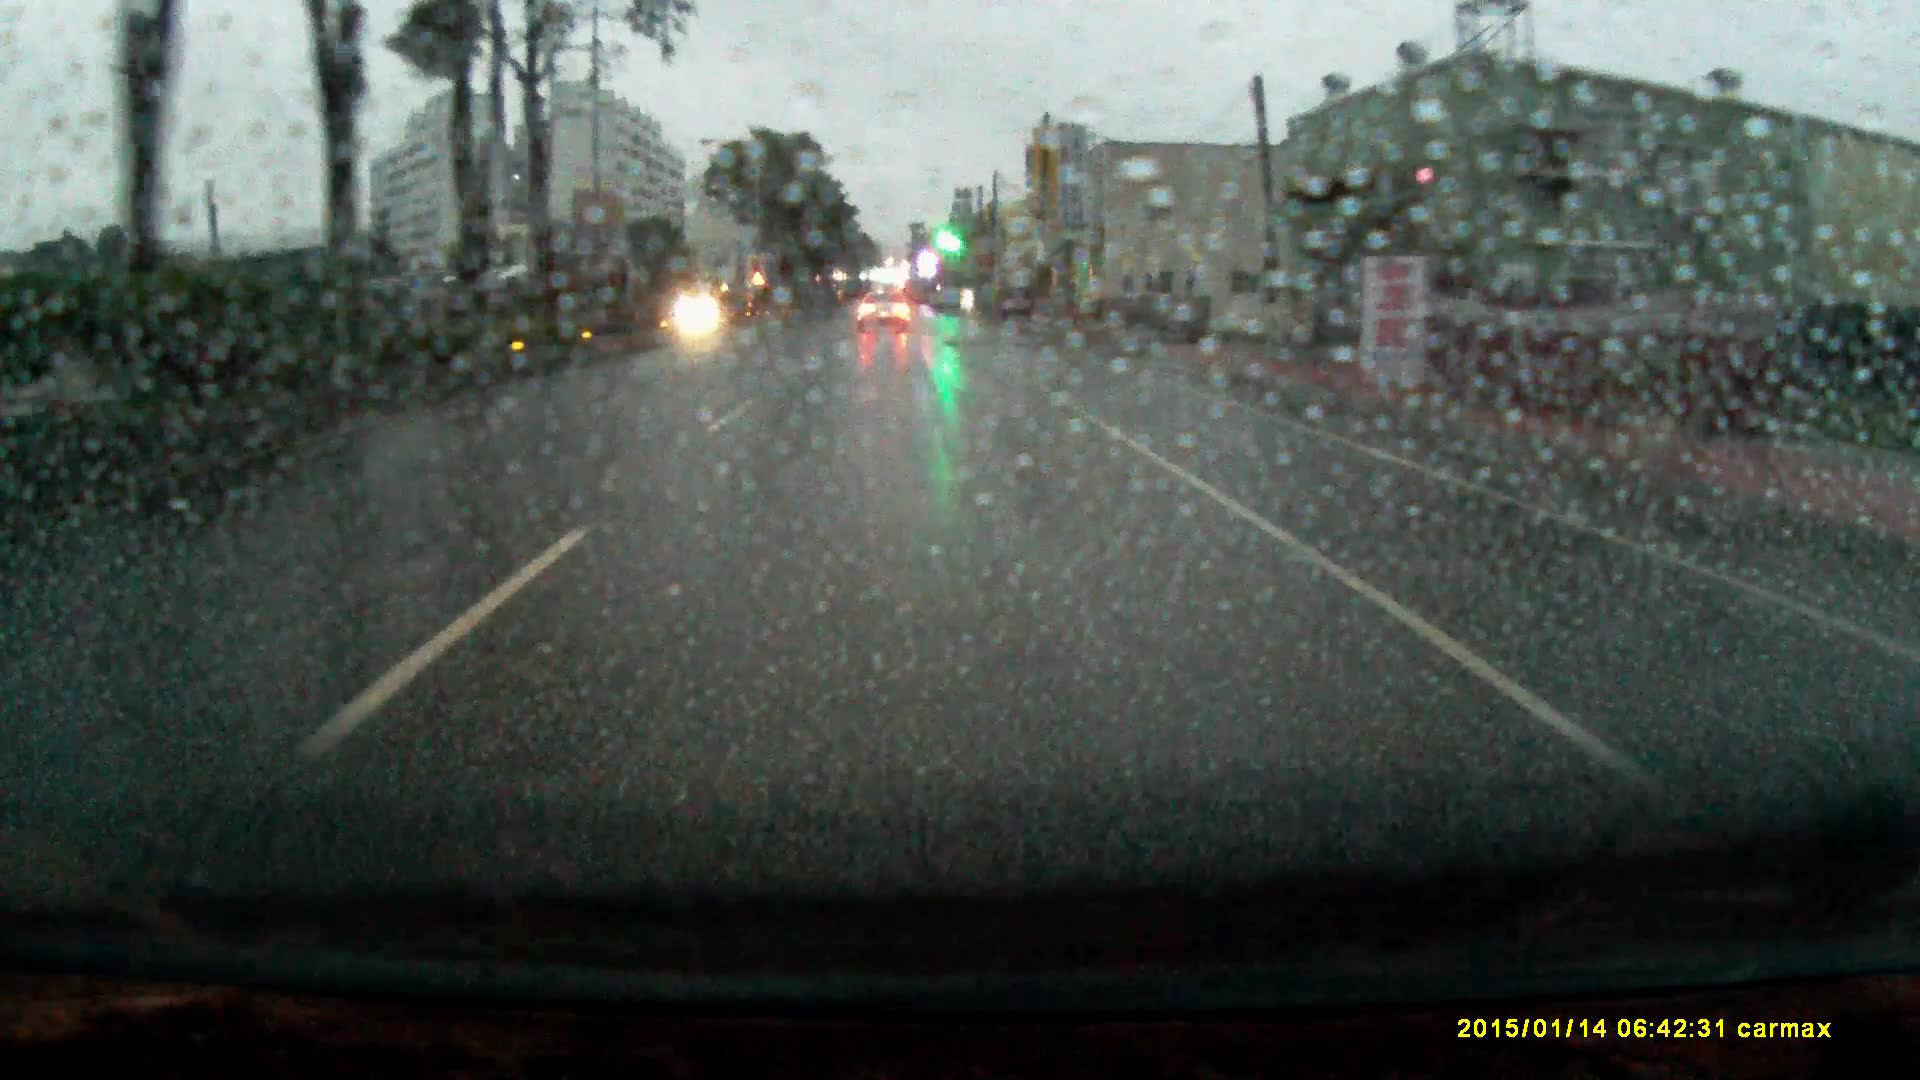vehicle: (857, 298, 909, 343)
